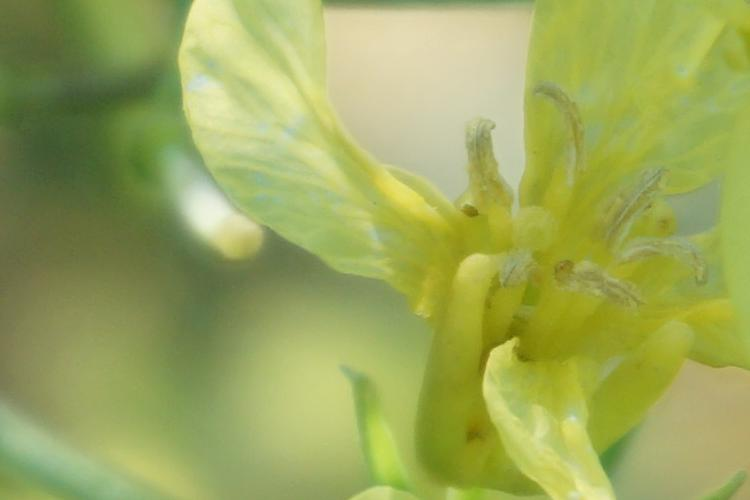yellow: (177, 1, 750, 494)
